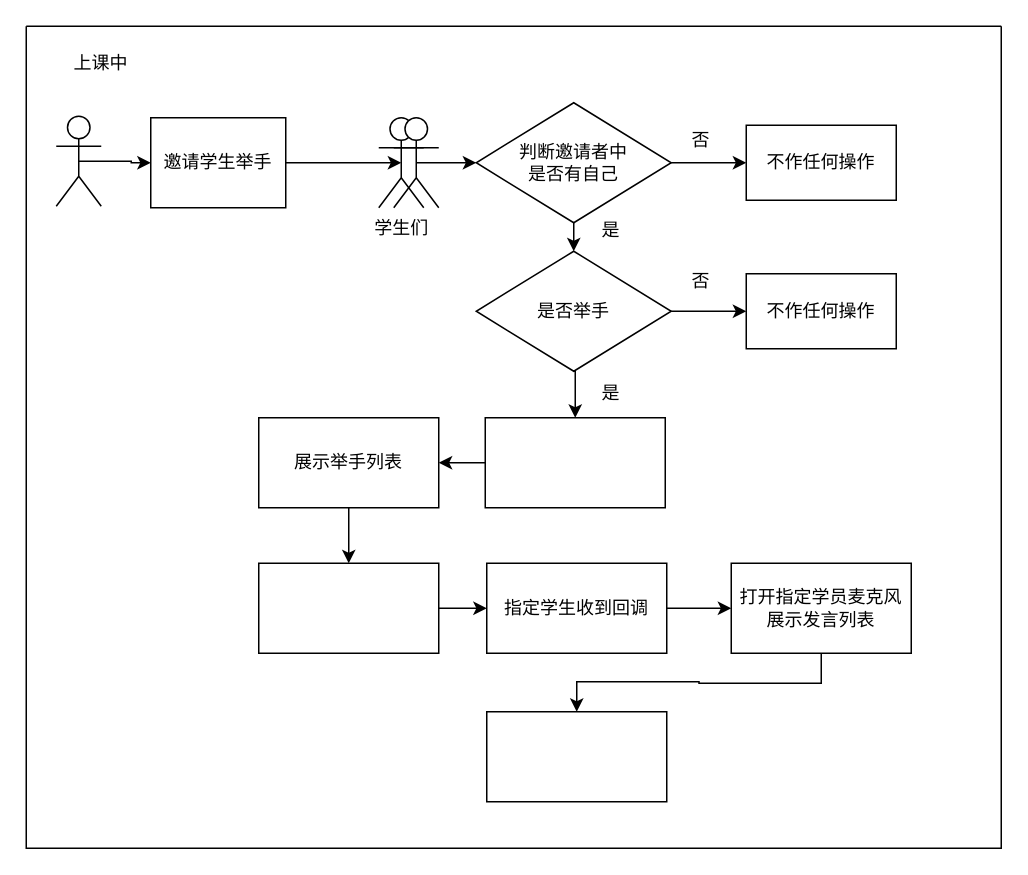
Some shapes in this 1028 by 875 pixel diagram are drawn without their labels. The centre of each missing label's shape, as x and y in pixels:
"发言结束，断开连麦 学生关闭麦克风" goes at (576,756).
"广播给所有人" goes at (574,462).
"老师" goes at (78,160).
"老师选择一个 或多个学生发言" goes at (348,607).
